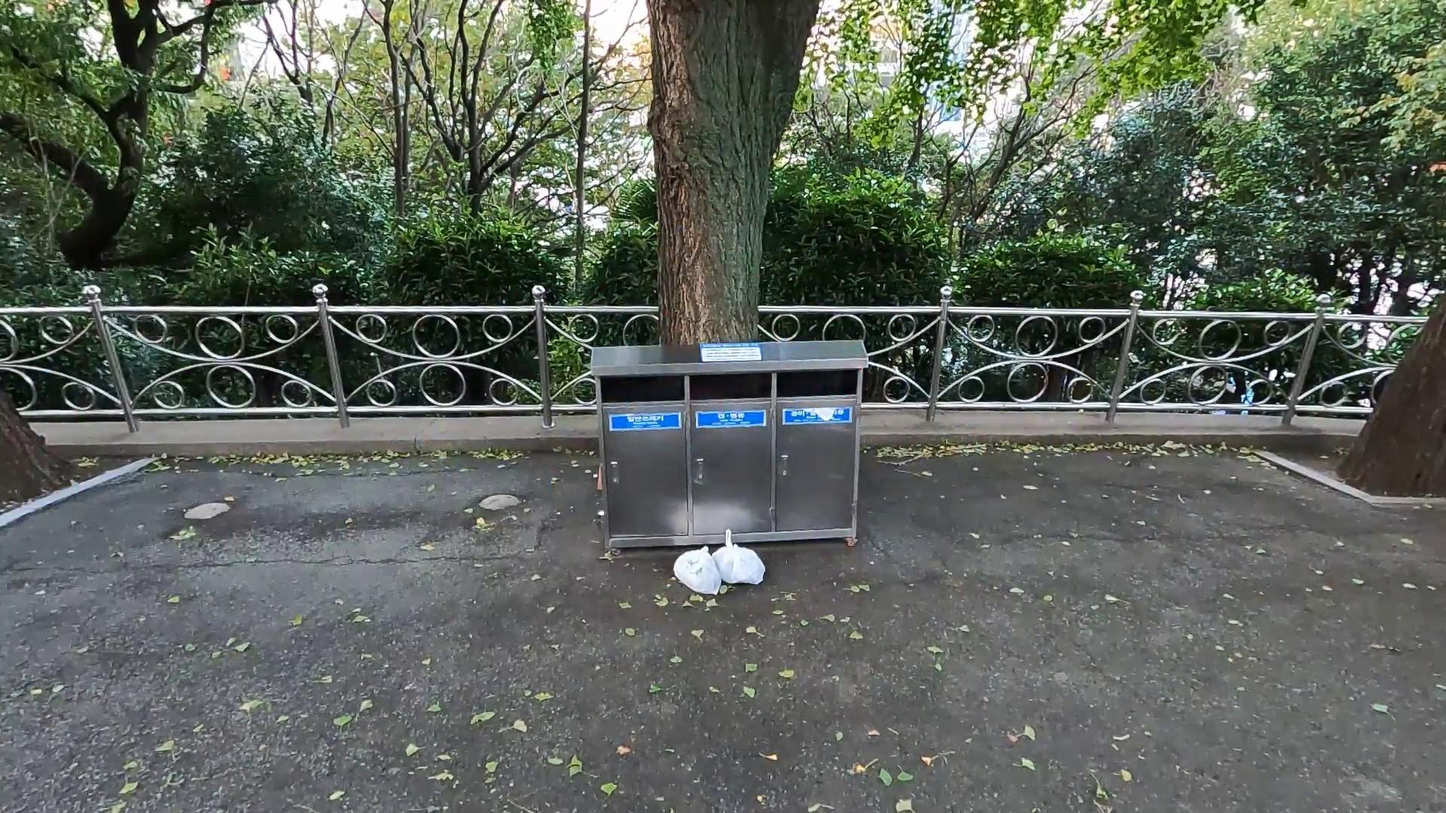trash: (706, 529, 766, 590), (673, 545, 722, 599)
